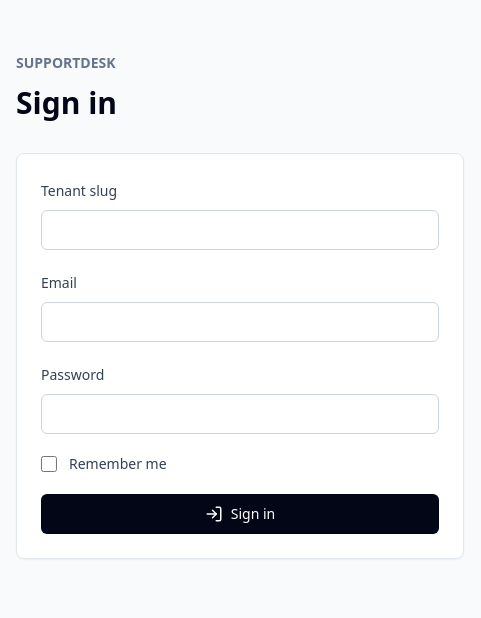
authentication pages › renders a tenant-aware login form and validates required fields
Check: the heading "Sign in" is shown, box [16,82,117,123]
Check: the field labelled "Tenant slug" is shown, box [41,210,439,250]
Click the button "Sign in": (240, 514) [41,494,439,534]
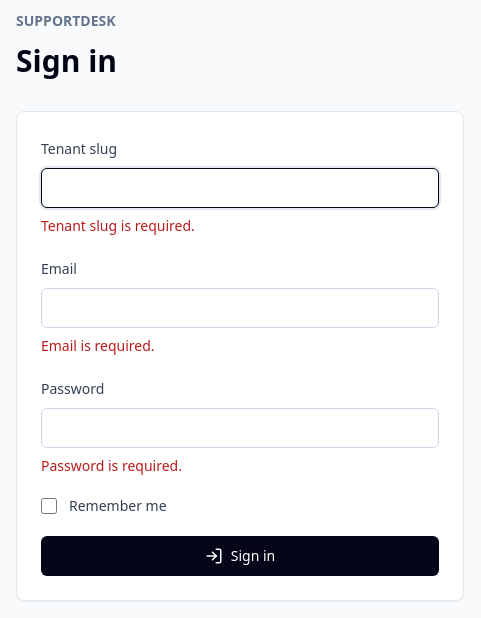
Check: the text "Tenant slug is required." is shown, box [41,216,195,235]
Check: the text "Email is required." is shown, box [41,336,155,355]
Check: the text "Password is required." is shown, box [41,456,182,475]
